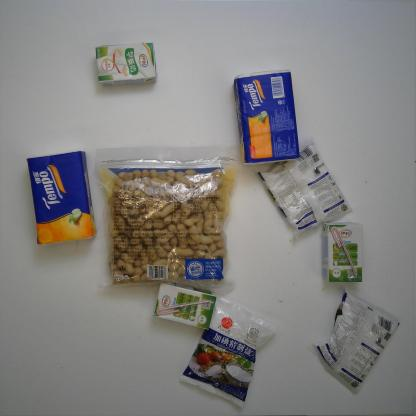Dried Food: (91, 145, 244, 297)
Milk: (152, 283, 217, 332), (95, 42, 158, 88), (320, 220, 364, 284)
Seasoner: (175, 296, 280, 410), (305, 284, 404, 394), (256, 138, 356, 241)
Tissue: (25, 150, 98, 246), (232, 68, 300, 166)
